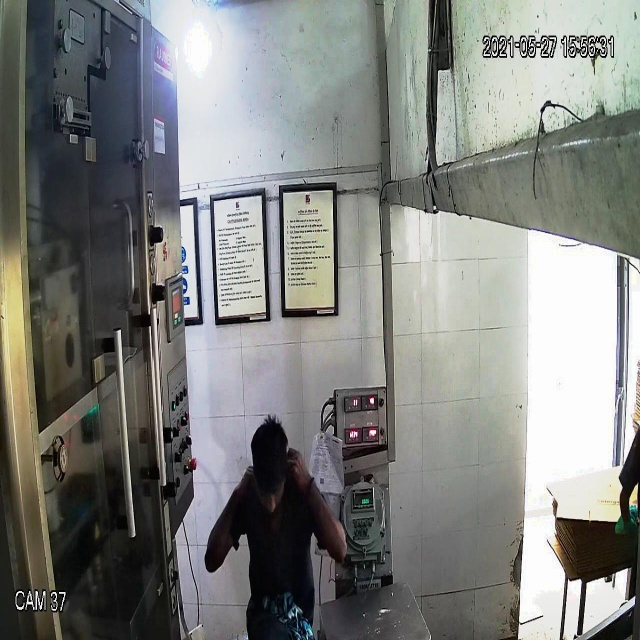Sin_gafas: (250, 473, 288, 504)
